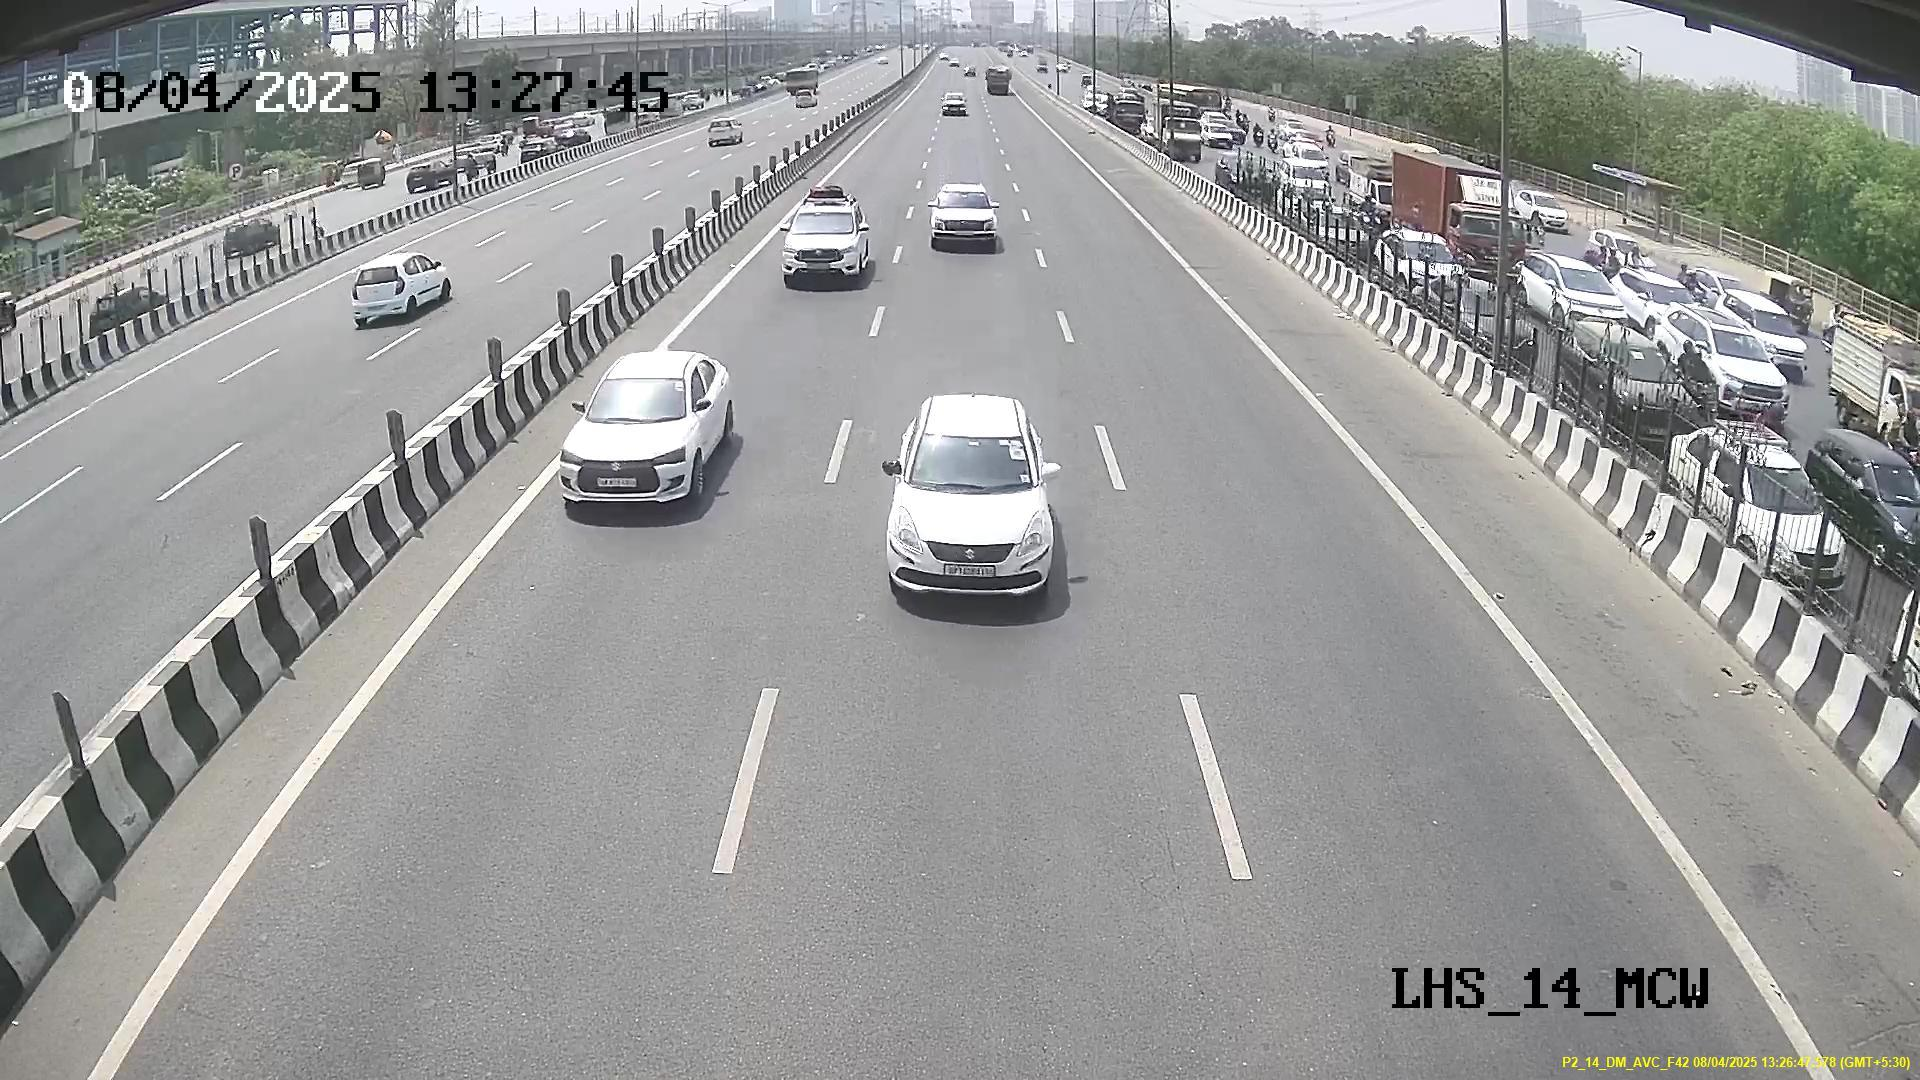car: (881, 406, 1062, 607), (560, 356, 713, 514), (779, 200, 872, 289), (924, 179, 1001, 252)
